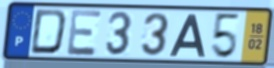3: (139, 11, 171, 58), (104, 10, 135, 58)
5: (208, 12, 243, 60)
A: (167, 12, 207, 59)
D: (28, 8, 70, 57)
E: (66, 8, 104, 57)
